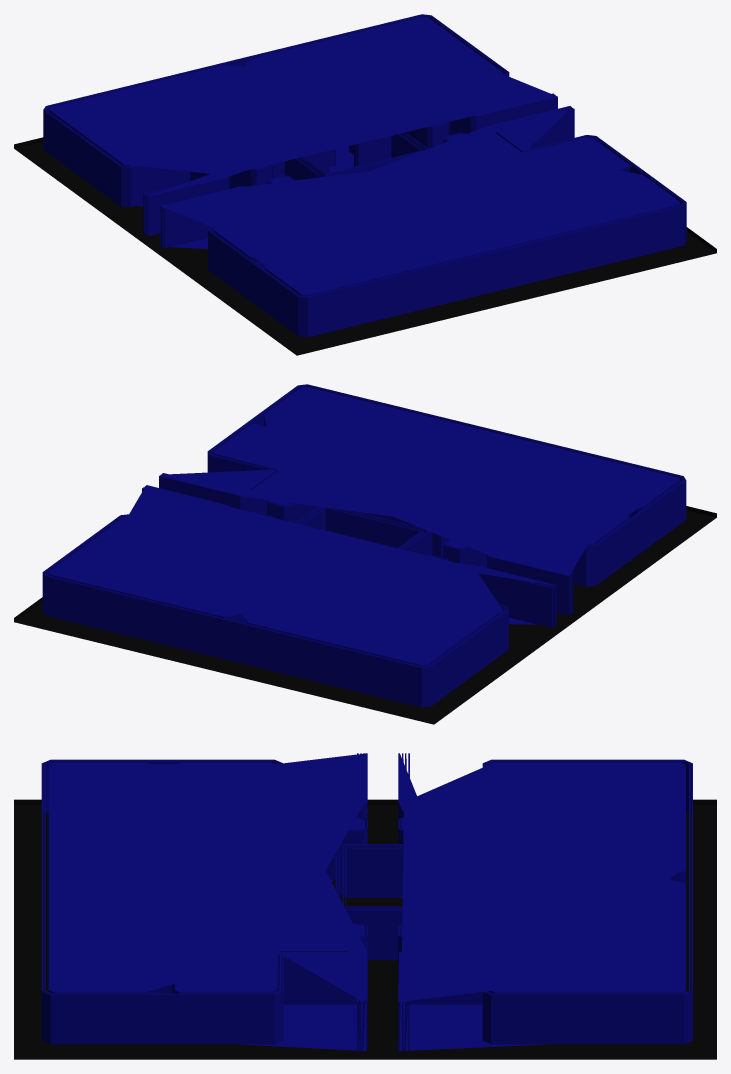
Rendered from Map.fbx.
3 renders of one model, top to bottom at view 1: azimuth 30°, elevation 25°; view 2: azimuth 150°, elevation 25°; view 3: azimuth 270°, elevation 25°, orthographic. The views are drawn at different scales.
Parts seen in each view (by area): view 1: map; view 2: map; view 3: map.
Part boxes in pixels (<box>): map: <box>14,14,716,355</box>; map: <box>14,384,716,724</box>; map: <box>14,753,716,1059</box>.
Size of the model in its own units: 2400 by 242 by 2800.
